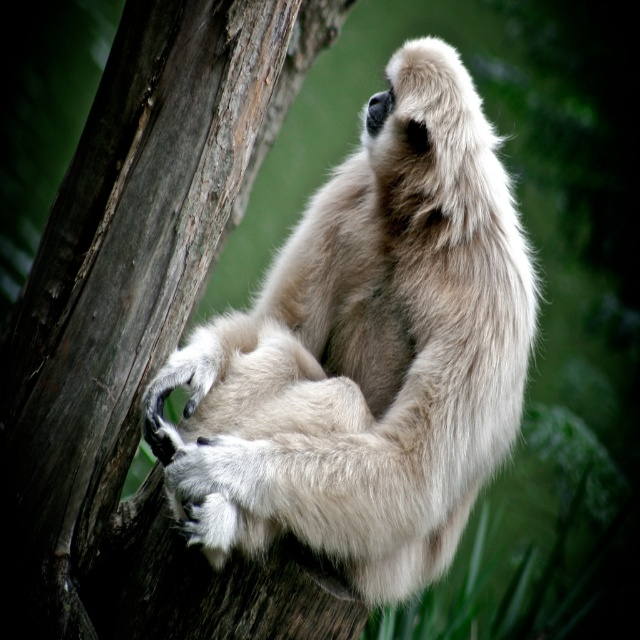Monkey: (140, 34, 554, 629)
